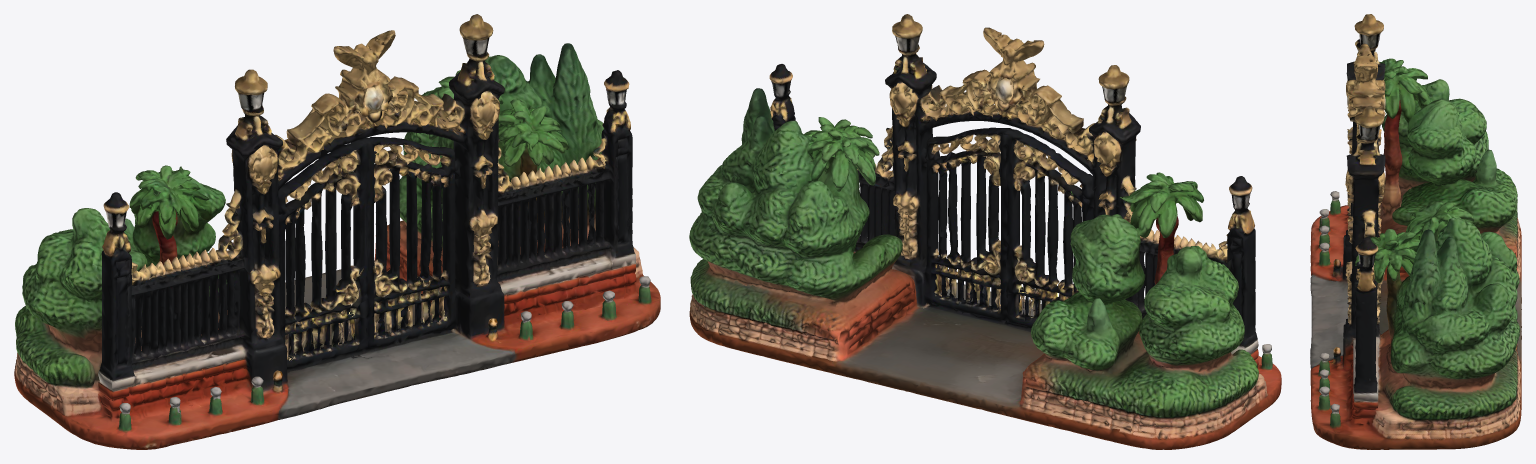
The model's file is portones.glb.
3 views of the same model, side by side, from view 1: azimuth 30°, elevation 25°; view 2: azimuth 150°, elevation 25°; view 3: azimuth 270°, elevation 25° (orthographic). The views are drawn at different scales.
Parts seen in each view (by area): view 1: model; view 2: model; view 3: model.
Boxes of the visible parts, box(x1,y1,x2,y2) form: model: box(14, 14, 660, 449); model: box(689, 14, 1281, 449); model: box(1310, 14, 1521, 449).
Bounding box in the file's own units: 1.9 × 1.03 × 0.7087.
Materials: 1 (1 with a texture image).
